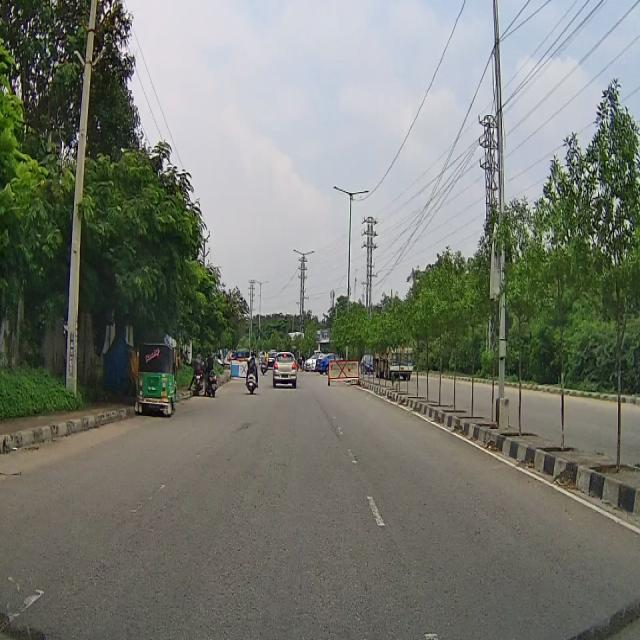auto ahead at: (136, 327, 182, 423)
barrier ahead at: (326, 358, 365, 384)
car ahead at: (269, 344, 300, 394)
electric pole ahead at: (54, 0, 117, 398)
